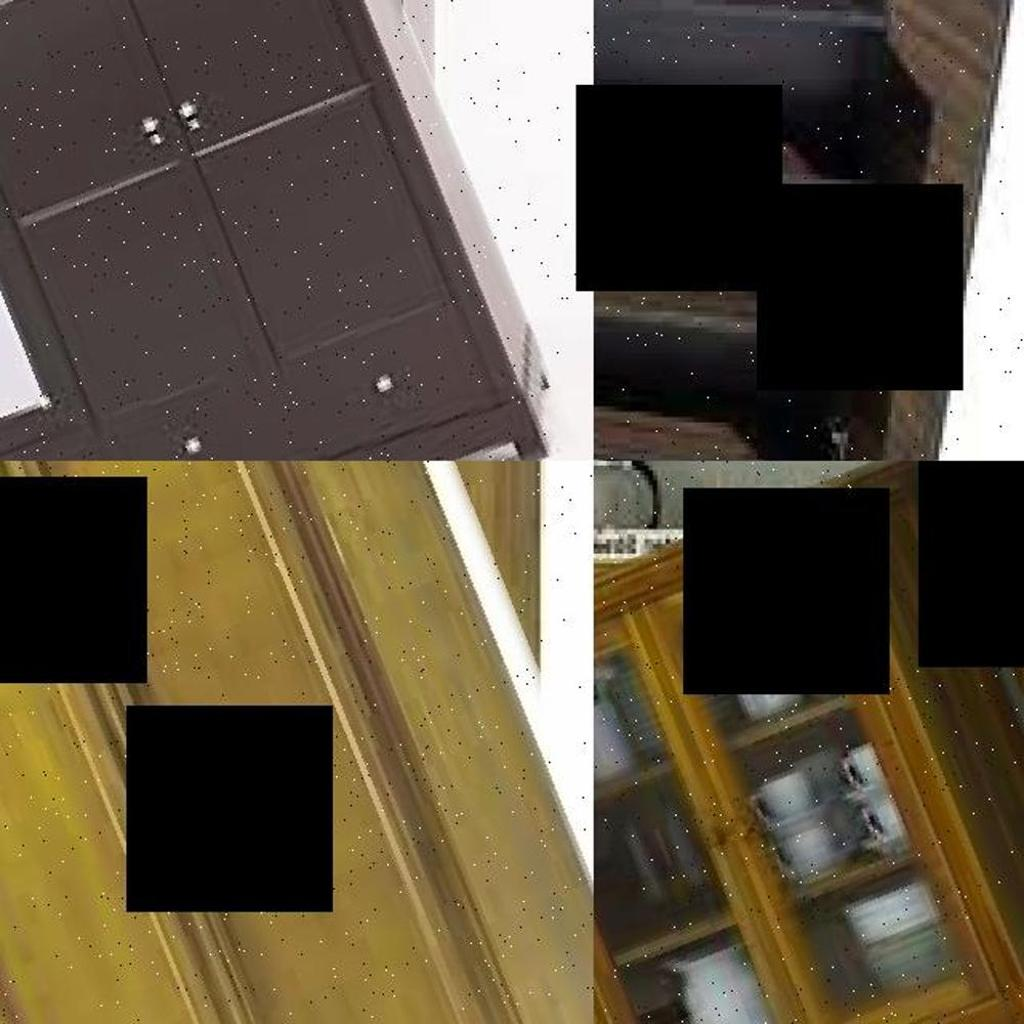cabinet: (0, 461, 594, 1024), (0, 0, 507, 461), (594, 0, 846, 461)
